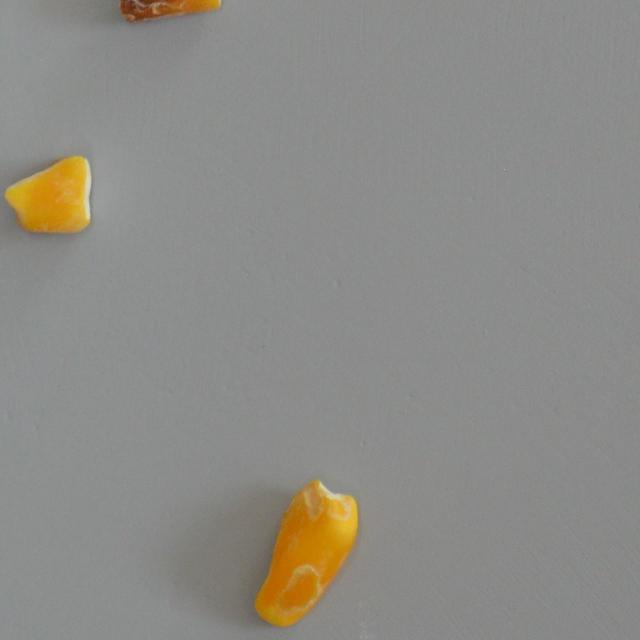dañado: (251, 476, 359, 630), (3, 154, 92, 234), (116, 0, 226, 26)
